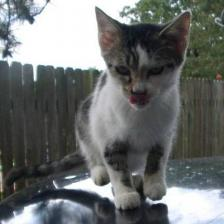cat: (92, 4, 202, 110)
